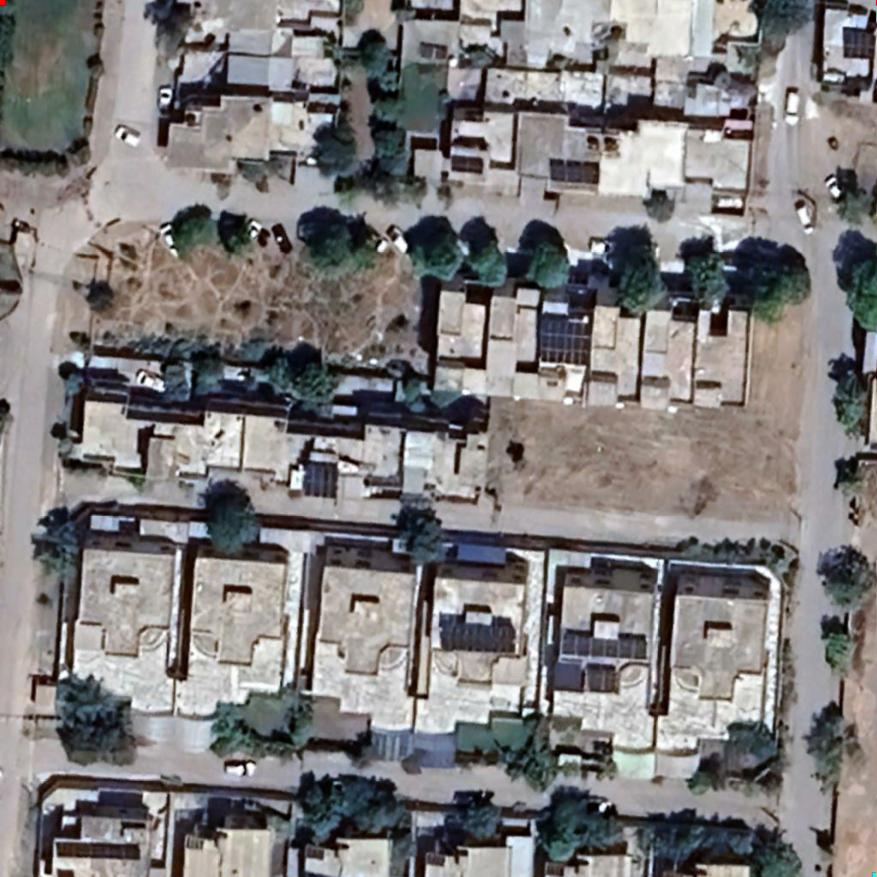Solarpanel: (529, 303, 597, 369), (438, 616, 521, 656), (558, 629, 656, 662), (297, 459, 342, 504), (546, 155, 599, 187), (583, 662, 622, 696)
